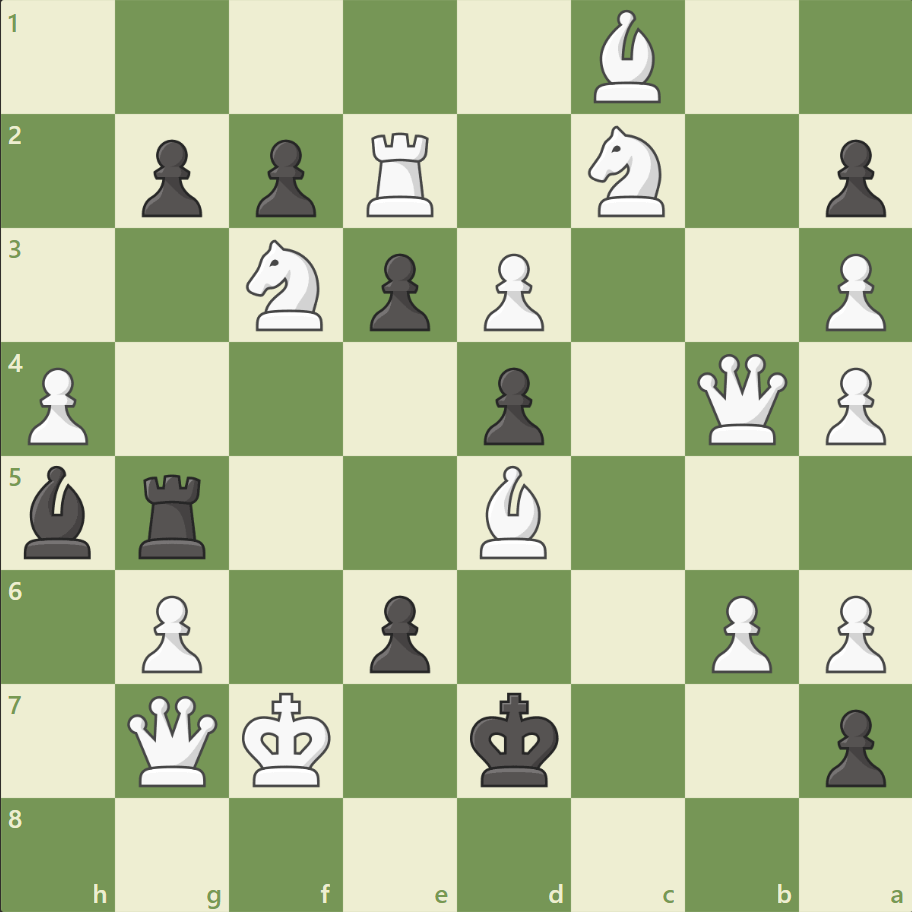B: (471, 460, 555, 563), (585, 6, 669, 109)
K: (238, 685, 338, 793)
N: (238, 234, 335, 337), (579, 121, 676, 223)
P: (701, 586, 776, 677), (133, 586, 208, 677), (20, 359, 95, 450), (474, 246, 549, 337), (815, 586, 889, 677), (815, 359, 889, 450), (815, 246, 889, 337)
Q: (691, 349, 790, 449), (124, 690, 223, 789)
R: (360, 125, 442, 222)
b: (17, 460, 101, 563)
k: (465, 685, 565, 793)
p: (474, 359, 549, 450), (247, 132, 322, 223), (133, 132, 208, 223), (815, 700, 889, 791), (361, 586, 435, 677), (361, 246, 435, 337), (815, 132, 889, 223)
r: (133, 466, 215, 563)
